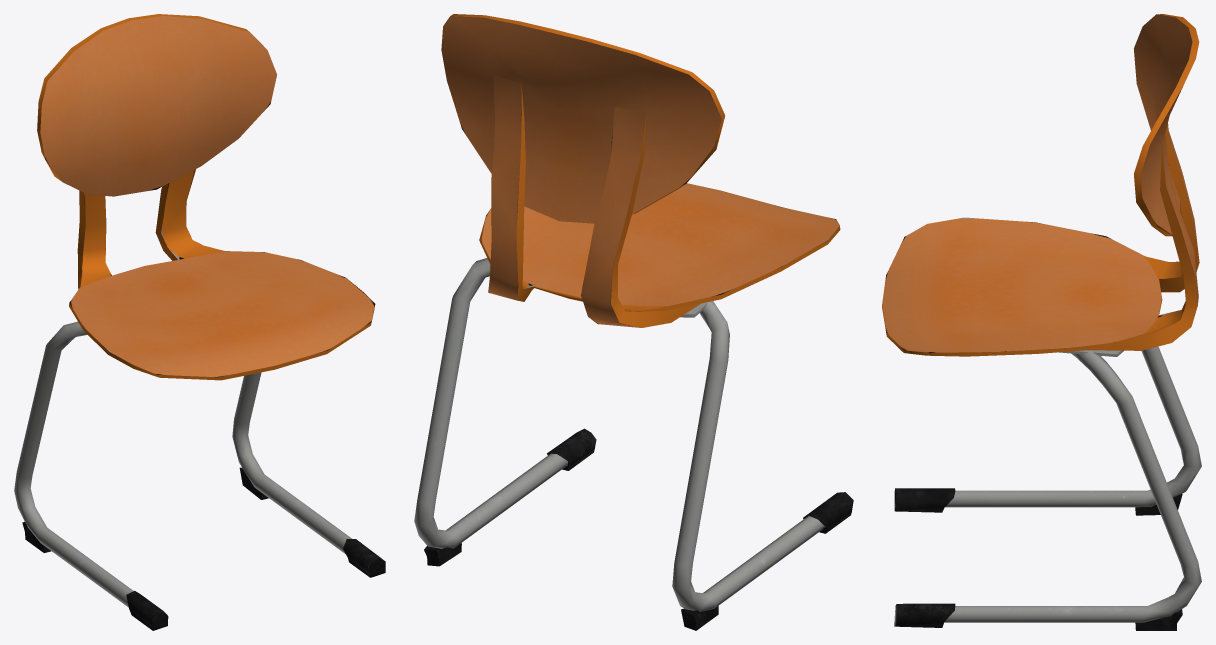
The model's file is OrangeChair.obj.
3 renders of one model, left to right at view 1: azimuth 30°, elevation 25°; view 2: azimuth 150°, elevation 25°; view 3: azimuth 270°, elevation 25°, orthographic. The views are drawn at different scales.
Parts seen in each view (by area): view 1: OrangeChair; view 2: OrangeChair; view 3: OrangeChair.
Part boxes in pixels (x1=…): OrangeChair: x1=14, y1=14, x2=385, y2=630; OrangeChair: x1=414, y1=14, x2=853, y2=630; OrangeChair: x1=882, y1=14, x2=1201, y2=630.
Bounding box in the file's own units: 0.4074 × 0.7402 × 0.4058.
